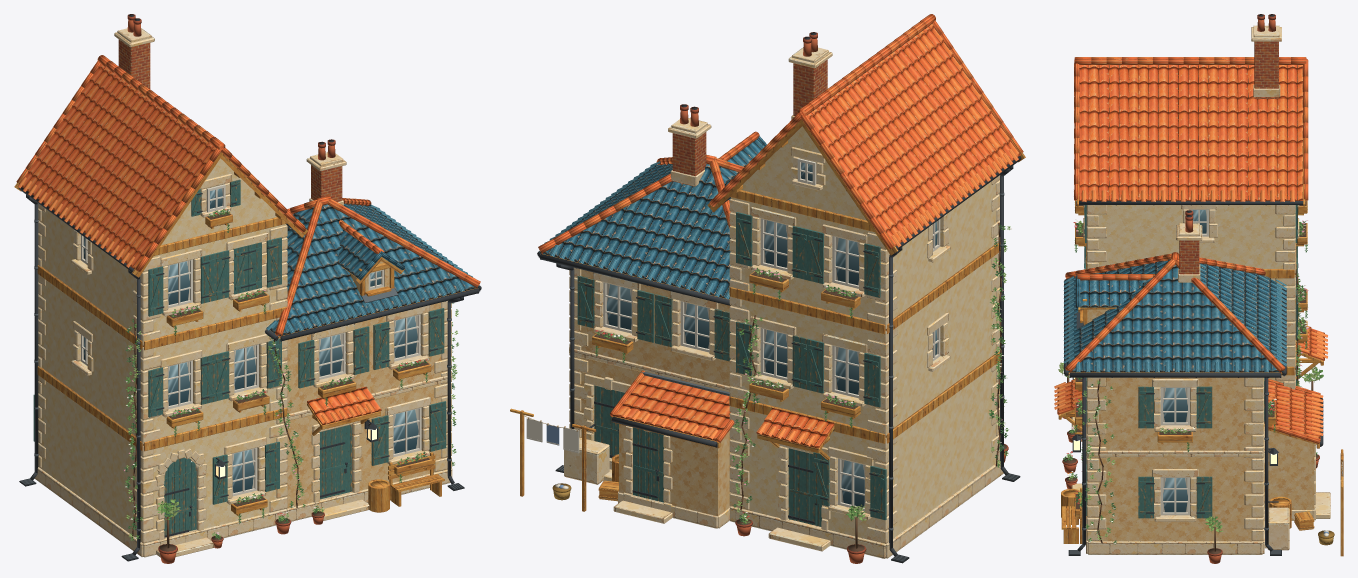
3 views of the same model, side by side, from view 1: azimuth 30°, elevation 25°; view 2: azimuth 150°, elevation 25°; view 3: azimuth 270°, elevation 25° (orthographic). The views are drawn at different scales.
Parts seen in each view (by area): view 1: seaside_plaster, seaside_stone, seaside_roof, seaside_roof_2, house_paint, seaside_timber, seaside_shutter, seaside_plaster_2, seaside_shutter_2, house_window_pane, seaside_ridge_2, detail_window_boxes (+6 smaller); view 2: seaside_plaster, seaside_stone, seaside_roof, seaside_roof_2, house_paint, seaside_shutter, seaside_timber, seaside_plaster_2, seaside_ridge_2, seaside_shutter_2, house_window_pane, alt_chimney_brick (+5 smaller); view 3: seaside_roof, seaside_roof_2, seaside_plaster_2, seaside_stone, seaside_plaster, seaside_ridge_2, house_paint, alt_chimney_brick, seaside_shutter_2, detail_window_boxes, detail_planters, detail_yard (+6 smaller).
Part boxes in pixels (bbox=[...]): seaside_plaster: bbox=[38, 158, 286, 543]; seaside_stone: bbox=[34, 174, 452, 557]; seaside_roof: bbox=[16, 61, 305, 271]; seaside_roof_2: bbox=[266, 203, 479, 336]; house_paint: bbox=[18, 184, 481, 561]; seaside_timber: bbox=[14, 115, 478, 451]; seaside_shutter: bbox=[33, 179, 281, 535]; seaside_plaster_2: bbox=[286, 261, 447, 508]; seaside_shutter_2: bbox=[298, 308, 446, 499]; house_window_pane: bbox=[83, 184, 418, 493]; seaside_ridge_2: bbox=[275, 196, 480, 425]; detail_window_boxes: bbox=[166, 209, 431, 523]; seaside_plaster: bbox=[731, 126, 999, 543]; seaside_stone: bbox=[569, 147, 1003, 558]; seaside_roof: bbox=[709, 20, 1023, 448]; seaside_roof_2: bbox=[539, 136, 766, 299]; house_paint: bbox=[537, 156, 1021, 563]; seaside_shutter: bbox=[736, 212, 886, 526]; seaside_timber: bbox=[540, 80, 1025, 460]; seaside_plaster_2: bbox=[574, 269, 730, 528]; seaside_ridge_2: bbox=[538, 131, 759, 442]; seaside_shutter_2: bbox=[577, 275, 730, 502]; house_window_pane: bbox=[606, 159, 937, 507]; alt_chimney_brick: bbox=[668, 32, 832, 186]; seaside_roof: bbox=[1074, 58, 1327, 360]; seaside_roof_2: bbox=[1063, 259, 1286, 372]; seaside_plaster_2: bbox=[1087, 309, 1314, 541]; seaside_stone: bbox=[1071, 205, 1330, 554]; seaside_plaster: bbox=[1088, 205, 1294, 382]; seaside_ridge_2: bbox=[1054, 252, 1323, 443]; house_paint: bbox=[1064, 201, 1323, 555]; alt_chimney_brick: bbox=[1176, 14, 1281, 282]; seaside_shutter_2: bbox=[1086, 377, 1264, 518]; detail_window_boxes: bbox=[1073, 200, 1308, 518]; detail_planters: bbox=[1058, 362, 1223, 563]; detail_yard: bbox=[1264, 366, 1323, 550].
Bounding box in the file's own units: 9.7 × 12.06 × 7.29.
Materials: 14 (13 with a texture image).
